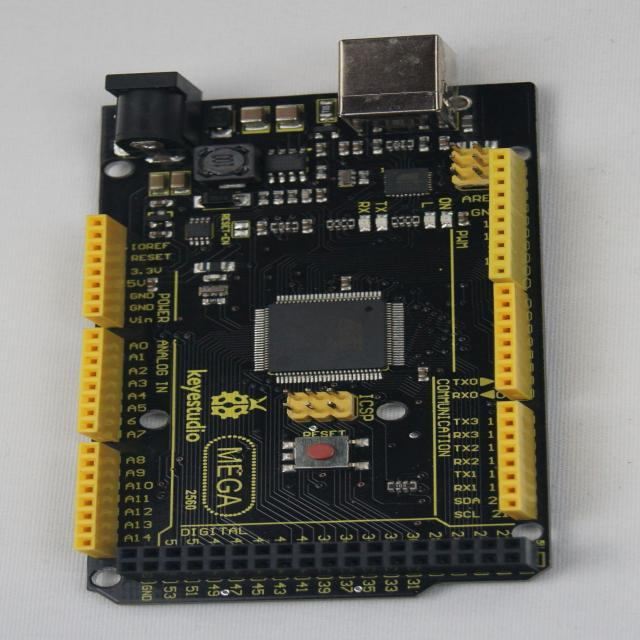Arduino Mega 2560 -Yellow-: (75, 36, 549, 605)
